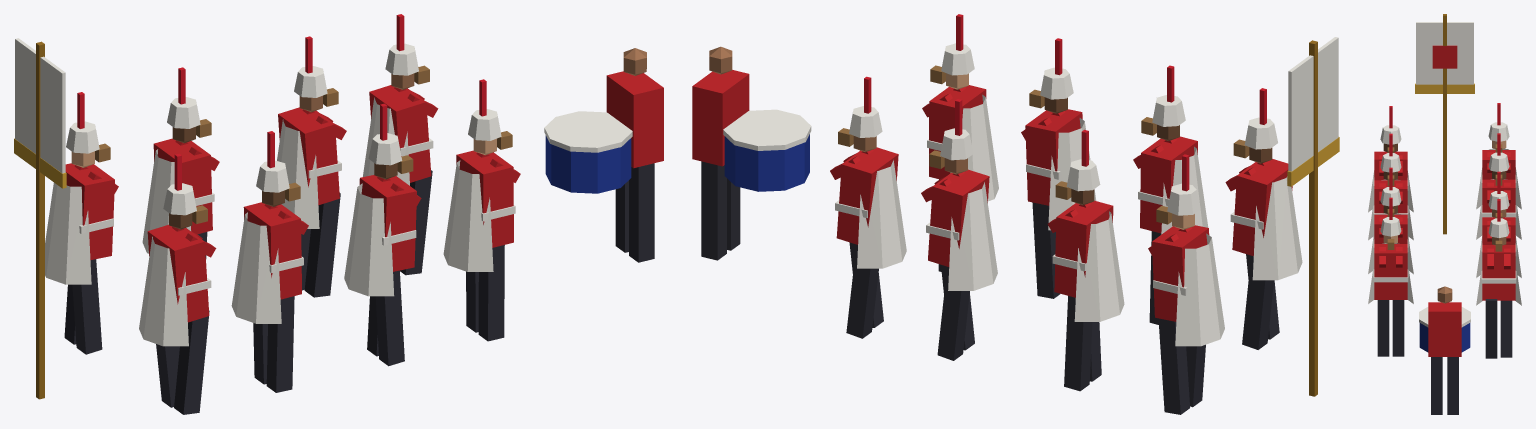
File: baile_chino_1.obj
3 renders of one model, left to right at view 1: azimuth 30°, elevation 25°; view 2: azimuth 150°, elevation 25°; view 3: azimuth 270°, elevation 25°, orthographic. The views are drawn at different scales.
Parts seen in each view (by area): view 1: baile_chino_1; view 2: baile_chino_1; view 3: baile_chino_1.
Part boxes in pixels (x1=…): baile_chino_1: x1=14, y1=14, x2=663, y2=414; baile_chino_1: x1=692, y1=14, x2=1339, y2=414; baile_chino_1: x1=1368, y1=14, x2=1521, y2=414.
Size of the model in its own units: 5.26 by 2.91 by 1.85.
